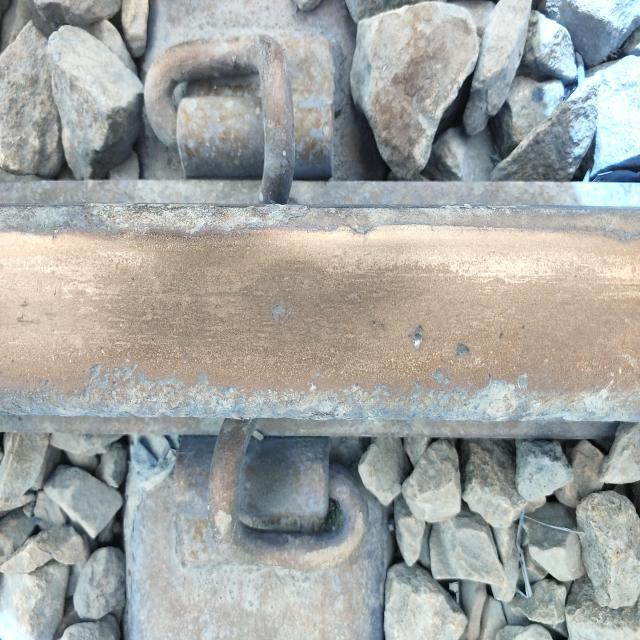Good Fasteners: (144, 34, 335, 204), (173, 419, 376, 570)
